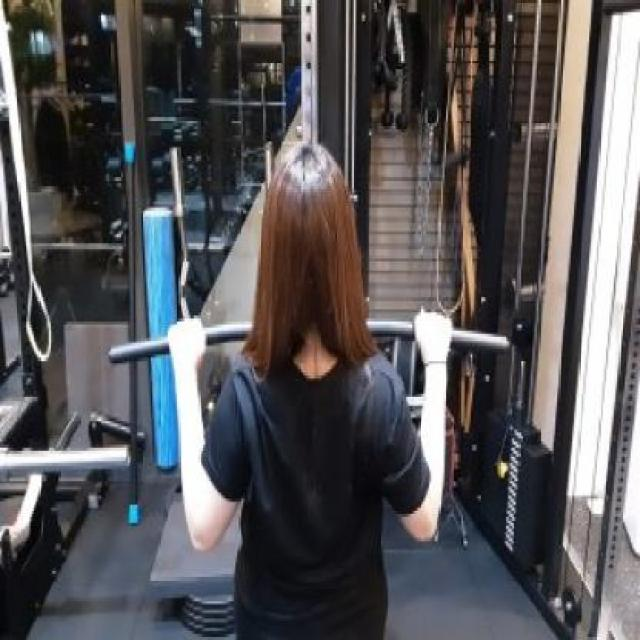Lat Pull Down: (94, 0, 531, 640)
